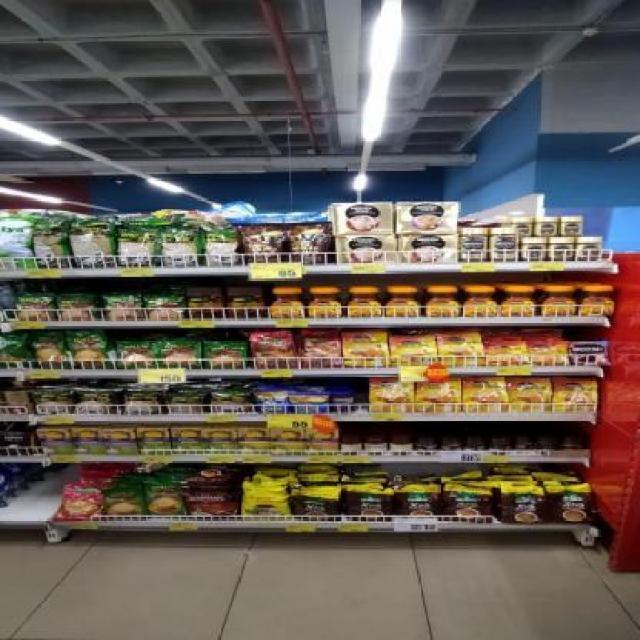Coffee: (343, 332, 389, 366), (416, 378, 462, 412), (463, 377, 507, 411), (438, 333, 484, 365), (371, 378, 414, 412), (390, 336, 437, 367), (508, 378, 550, 411), (553, 380, 595, 412), (269, 289, 305, 317), (486, 341, 528, 365), (500, 287, 534, 315), (463, 288, 497, 316), (543, 287, 575, 316), (528, 341, 566, 365), (581, 288, 613, 316), (426, 289, 458, 317), (386, 289, 418, 317), (350, 289, 382, 317), (309, 289, 341, 317), (493, 227, 519, 261), (569, 342, 606, 364), (461, 228, 485, 260), (579, 237, 602, 259), (550, 238, 572, 260), (523, 238, 545, 260), (536, 218, 557, 236), (562, 217, 581, 235), (515, 218, 533, 236)
